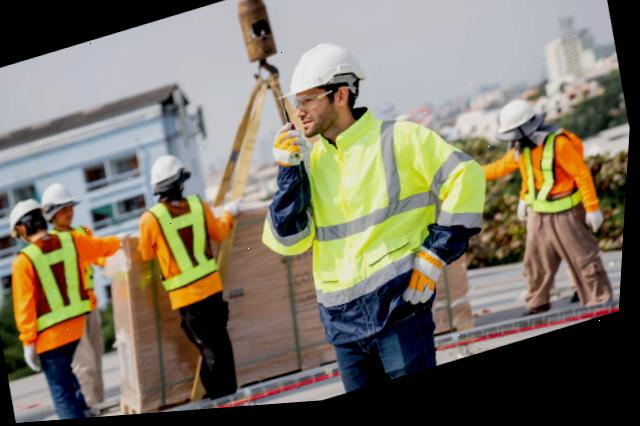helmet: (263, 30, 371, 113), (0, 194, 54, 241), (495, 100, 546, 147), (34, 176, 86, 214), (146, 150, 191, 188)
vest: (305, 114, 455, 303), (10, 230, 100, 337), (143, 190, 230, 298), (507, 128, 593, 231), (67, 222, 108, 296)
